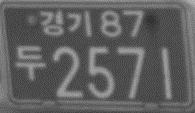1: (151, 45, 179, 100)
2: (51, 45, 83, 99)
5: (86, 44, 114, 100)
7: (116, 45, 145, 100), (122, 9, 143, 37)
8: (100, 10, 121, 37)
경기_O: (39, 10, 92, 38)
두: (14, 44, 46, 81)
